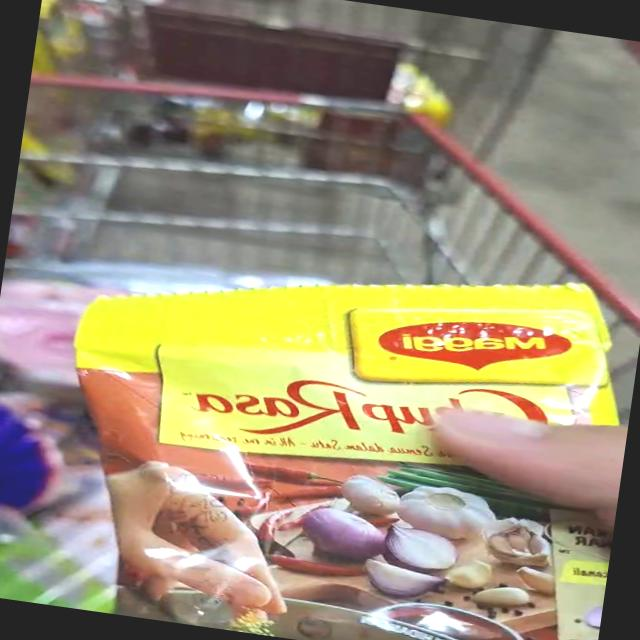Maggi Cukup Rasa: (50, 221, 640, 553), (68, 434, 616, 640)
